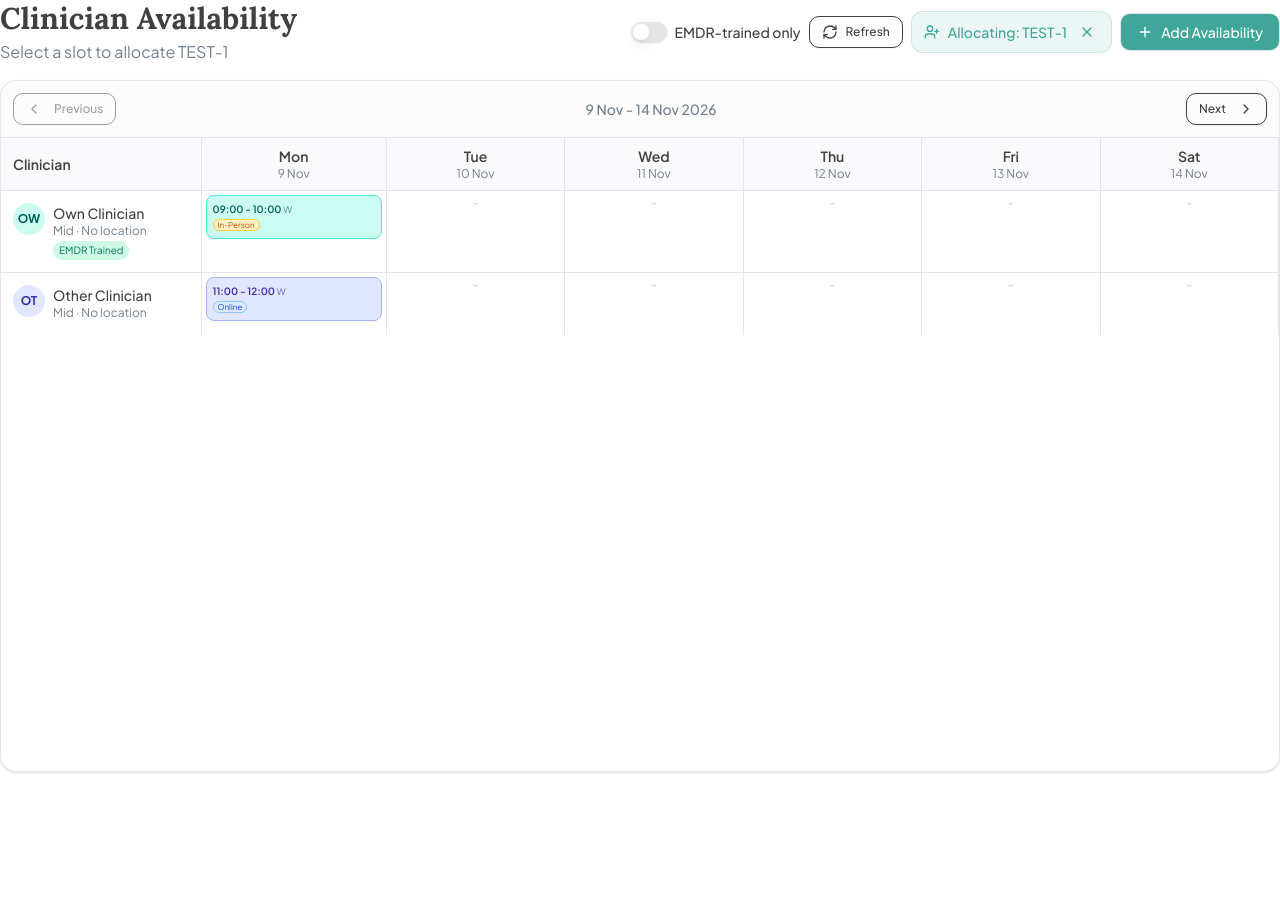
Test: keeps the existing in-person confirmation flow for other practices
Later steps or results of the test are not shown.
Click the text "09:00 - 10:00 W In-Person" at coordinates (294, 217), box [206,195,382,239]
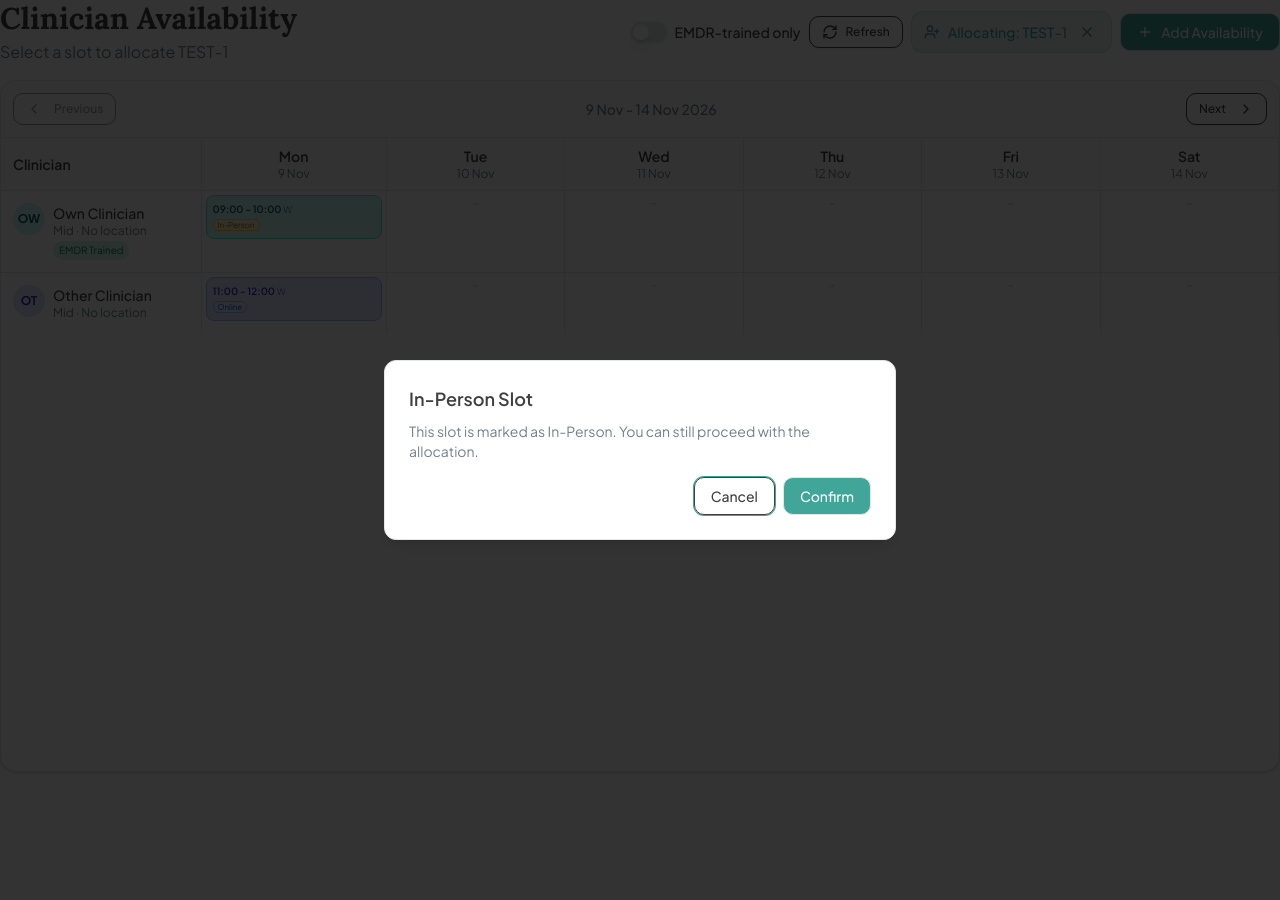
Result: the heading "In-Person Slot" is shown at [409,387,533,410]
